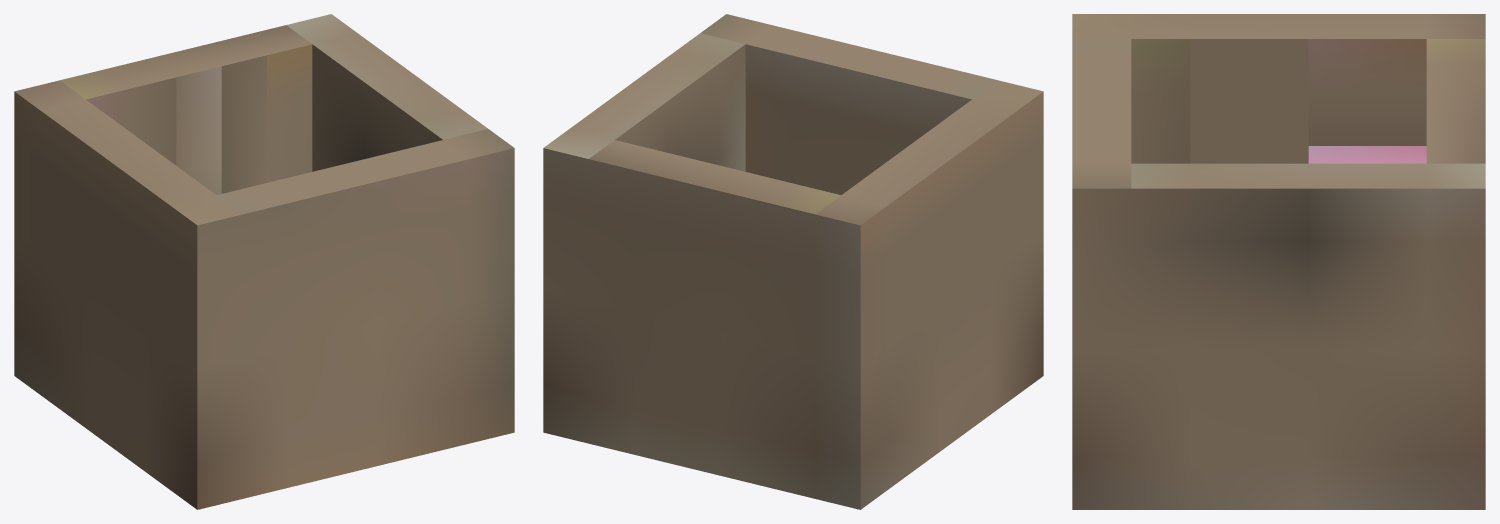
The model's file is OfficeWarehouseStorageBoxOpen_00.fbx.
3 views of the same model, side by side, from view 1: azimuth 30°, elevation 25°; view 2: azimuth 150°, elevation 25°; view 3: azimuth 270°, elevation 25° (orthographic). The views are drawn at different scales.
Parts seen in each view (by area): view 1: OfficeWarehouseStorageBoxOpen_00; view 2: OfficeWarehouseStorageBoxOpen_00; view 3: OfficeWarehouseStorageBoxOpen_00.
Boxes of the visible parts, box(x1,y1,x2,y2) form: OfficeWarehouseStorageBoxOpen_00: box(14, 14, 514, 509); OfficeWarehouseStorageBoxOpen_00: box(543, 14, 1043, 509); OfficeWarehouseStorageBoxOpen_00: box(1072, 14, 1485, 509).
Bounding box in the file's own units: 35 × 35 × 30.
Materials: 1 (1 with a texture image).
